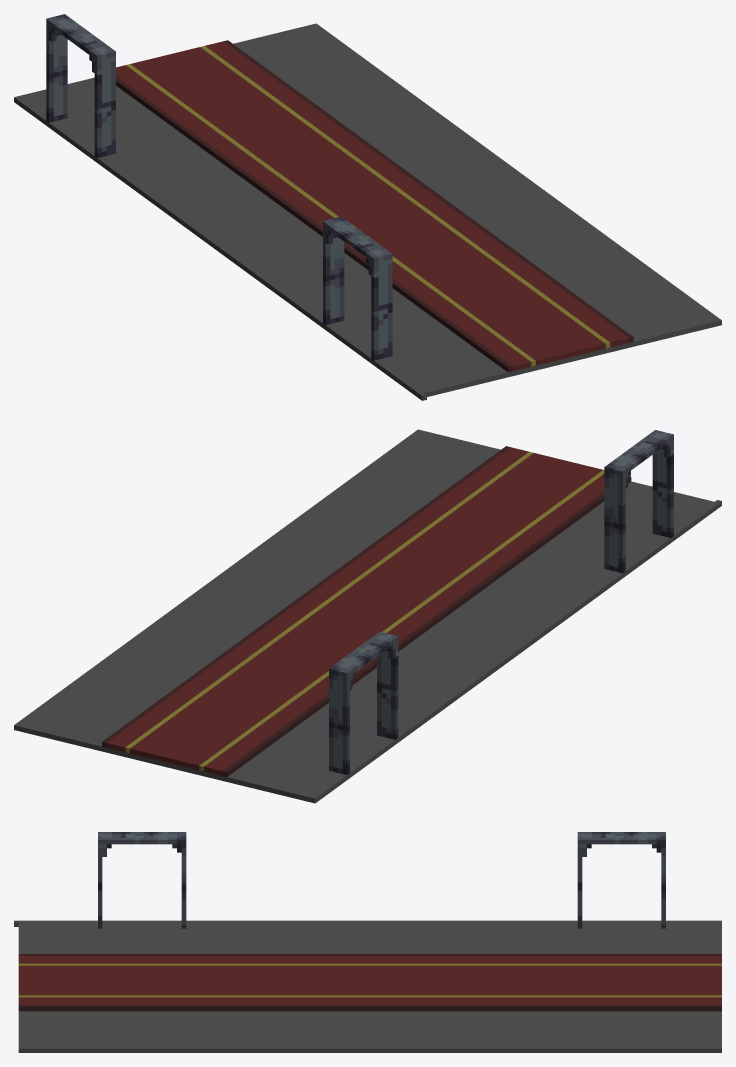
File: castle_caelyra_hall-9-floor - carpet.obj
3 views of the same model, one above another, from view 1: azimuth 30°, elevation 25°; view 2: azimuth 150°, elevation 25°; view 3: azimuth 270°, elevation 25° (orthographic). The views are drawn at different scales.
Visible parts, largest first — view 1: floor - carpet; view 2: floor - carpet; view 3: floor - carpet.
Part boxes in pixels (x1,y1,x2,y2): floor - carpet: (14,14,721,400); floor - carpet: (14,429,721,803); floor - carpet: (14,832,721,1052).
Bounding box in the file's own units: 6.5 × 2.2 × 15.2.
1 material, 1 textured.
